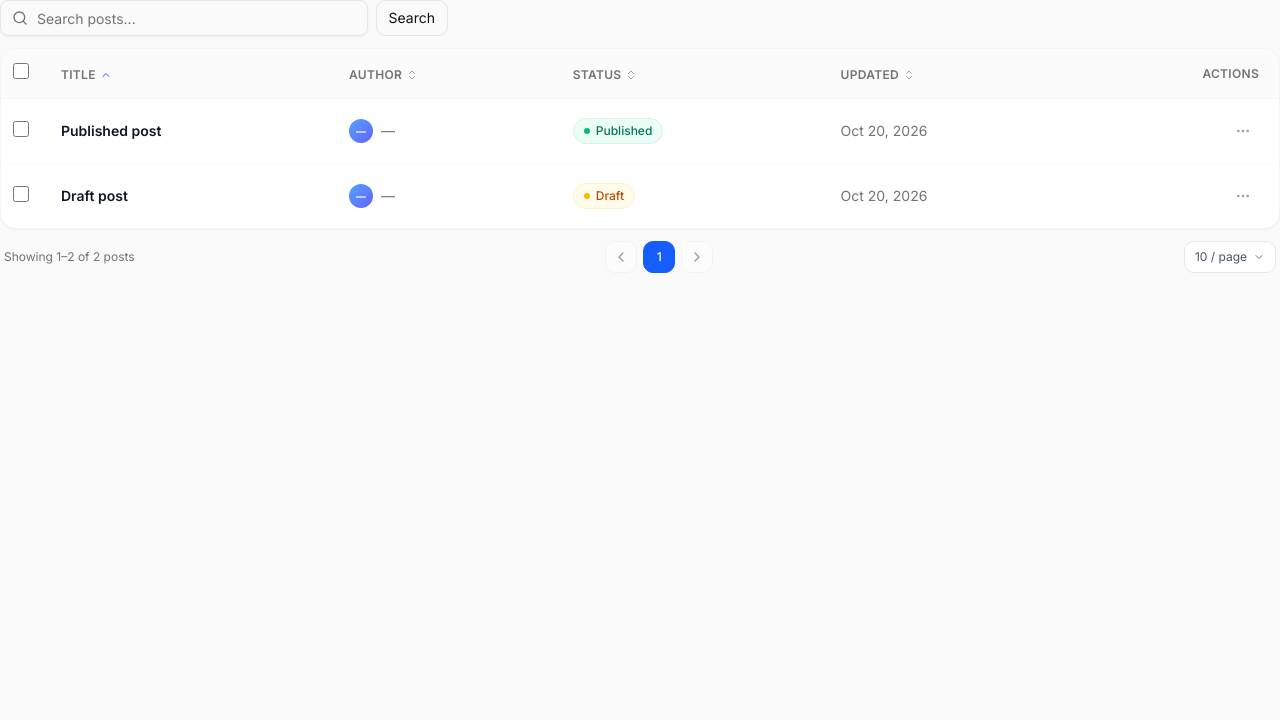
Test case: bulk post selection › refreshes uncertain network outcomes while keeping rows available for review
The width and height of the screenshot is (1280, 720).
Click the checkbox named "Select Draft post": [21, 194] box x1=13 y1=186 x2=29 y2=202
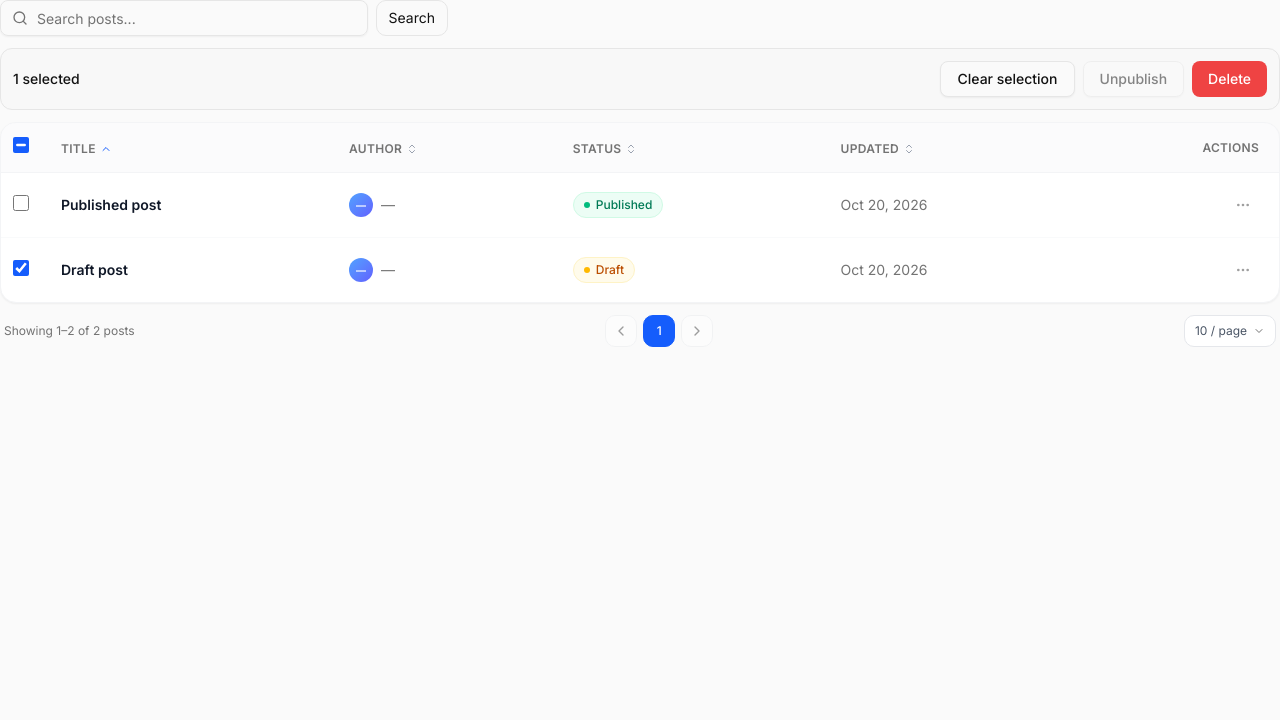
Click the button with aria-label "Delete selected": [1230, 79] box x1=1192 y1=61 x2=1267 y2=97
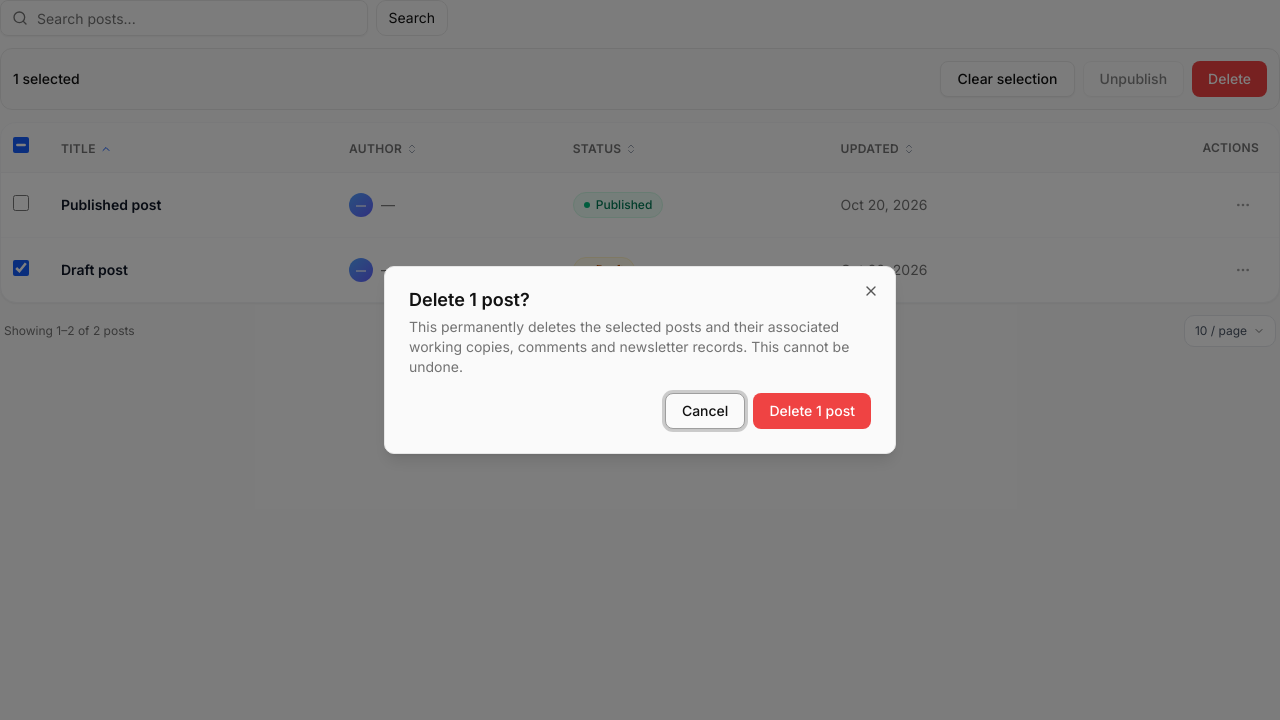
Click the button "Delete 1 post": [812, 411] box x1=753 y1=393 x2=871 y2=429
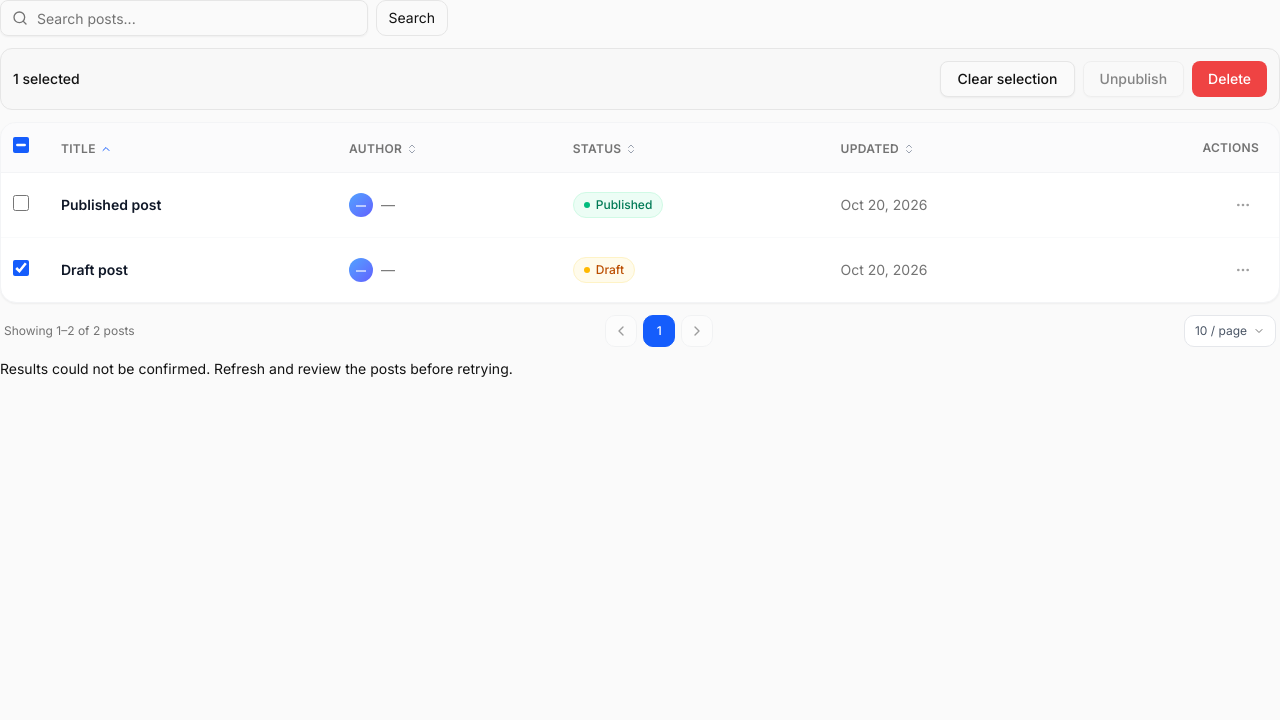
expect the checkbox named "Select Draft post" is checked: met, box x1=13 y1=260 x2=29 y2=276
expect the text "Results could not be confirmed. Refresh and review the posts before retrying." is shown: met, box x1=0 y1=360 x2=513 y2=377
